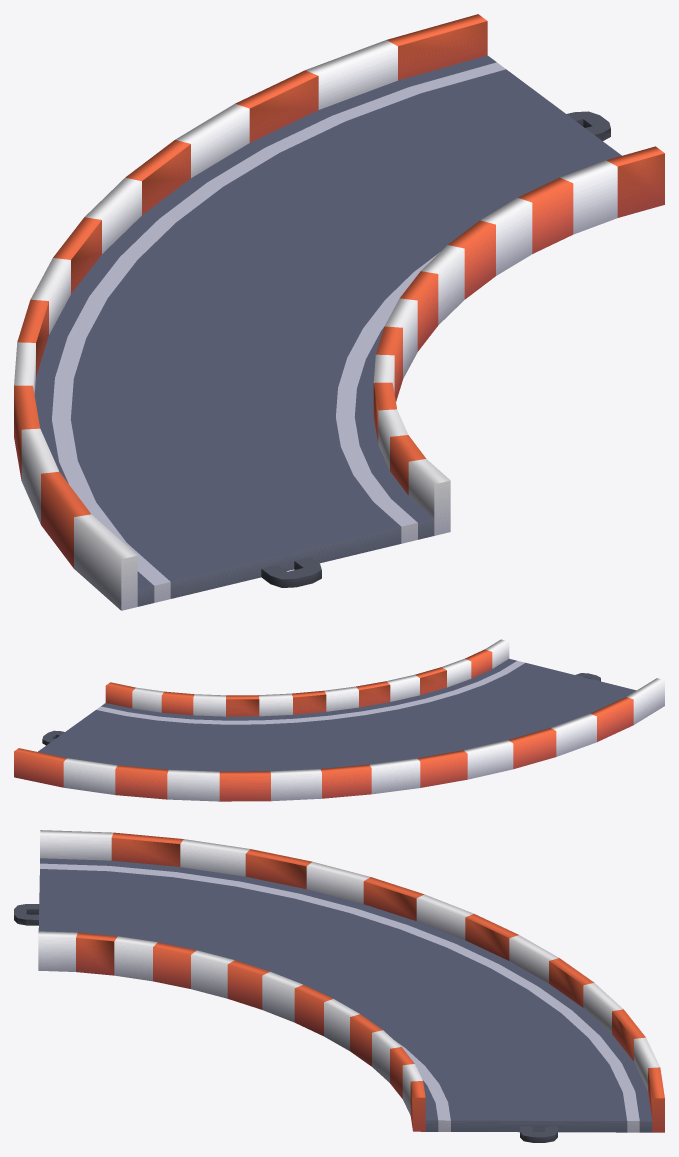
The model's file is track-road-wide-corner-large.005_lev1.glb.
The picture shows the model from 3 angles, top to bottom: view 1: azimuth 30°, elevation 25°; view 2: azimuth 150°, elevation 25°; view 3: azimuth 270°, elevation 25°; orthographic projection. The views are drawn at different scales.
Visible parts, largest first — view 1: track-road-wide-corner-large.005_lev1; view 2: track-road-wide-corner-large.005_lev1; view 3: track-road-wide-corner-large.005_lev1.
Boxes of the visible parts, box(x1,y1,x2,y2) form: track-road-wide-corner-large.005_lev1: box(14, 14, 664, 610); track-road-wide-corner-large.005_lev1: box(14, 639, 664, 801); track-road-wide-corner-large.005_lev1: box(14, 830, 664, 1142).
Bounding box in the file's own units: 5.23 × 0.3 × 5.17.
Materials: 1 (1 with a texture image).
